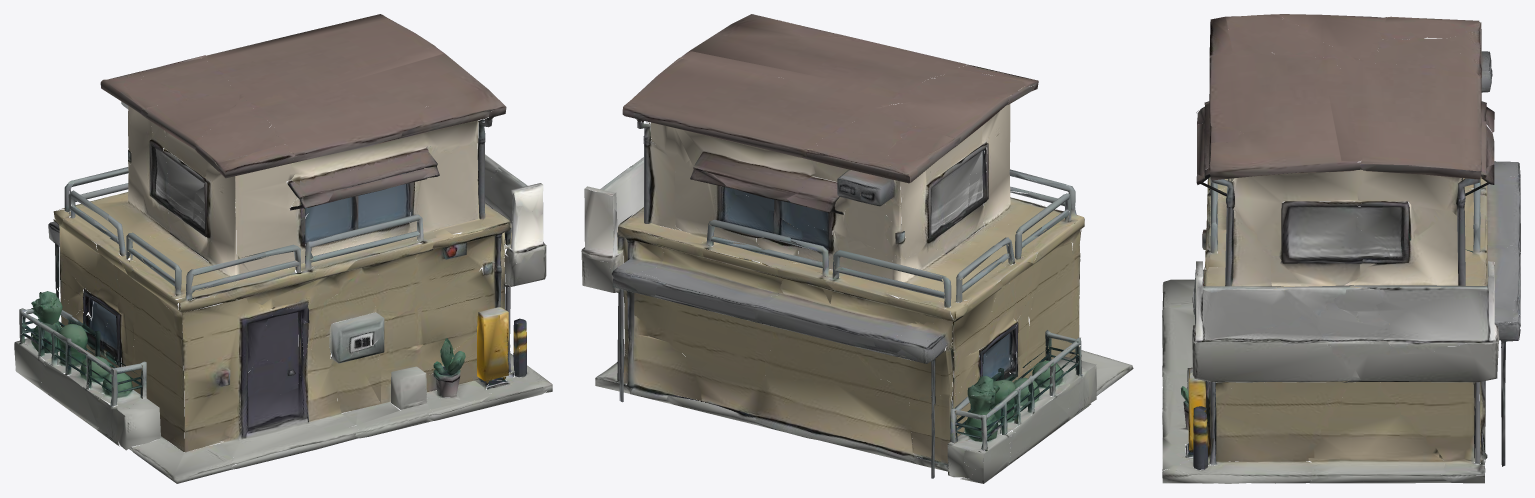
The model's file is building14.glb.
The picture shows the model from 3 angles, left to right: view 1: azimuth 30°, elevation 25°; view 2: azimuth 150°, elevation 25°; view 3: azimuth 270°, elevation 25°; orthographic projection. The views are drawn at different scales.
Visible parts, largest first — view 1: tripo_node_2e2212c6-85e9-494a-a887-7521b0f18d09; view 2: tripo_node_2e2212c6-85e9-494a-a887-7521b0f18d09; view 3: tripo_node_2e2212c6-85e9-494a-a887-7521b0f18d09.
Boxes of the visible parts, x1,y1,x2,y2 form: tripo_node_2e2212c6-85e9-494a-a887-7521b0f18d09: (14,14,552,483); tripo_node_2e2212c6-85e9-494a-a887-7521b0f18d09: (581,14,1133,483); tripo_node_2e2212c6-85e9-494a-a887-7521b0f18d09: (1162,14,1520,483).
Size of the model in its own units: 1 by 0.6965 by 0.729.
Materials: 1 (1 with a texture image).
